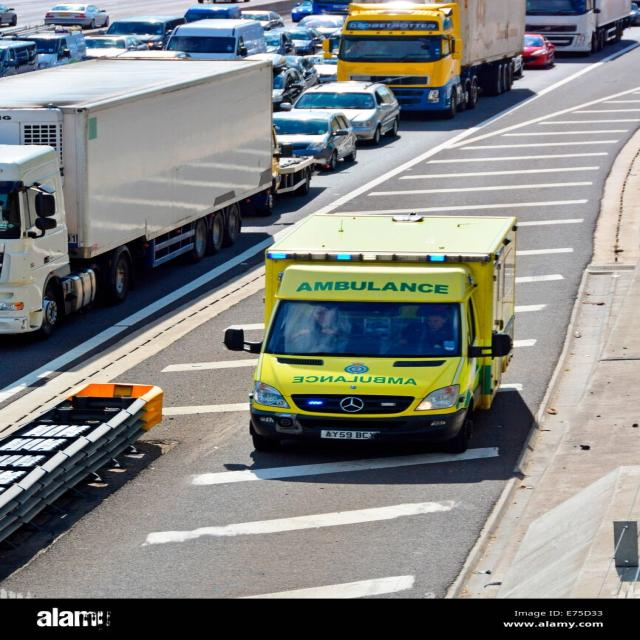car: (283, 81, 401, 144)
emergency: (225, 215, 518, 452)
truck: (0, 59, 311, 337), (337, 0, 526, 116)
